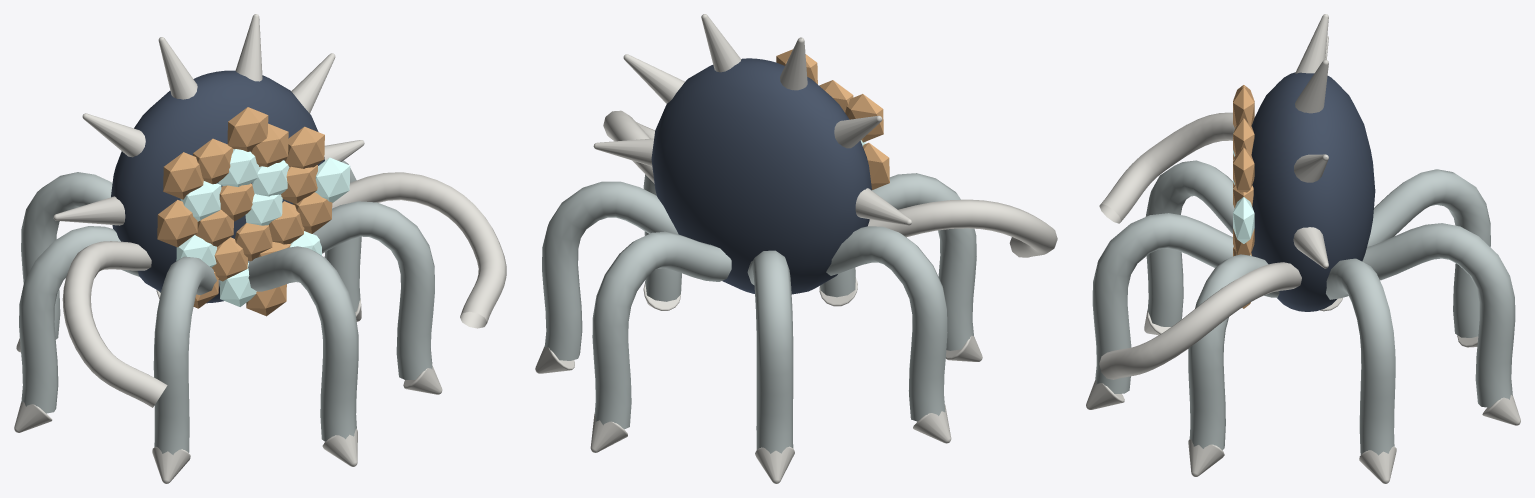
The model's file is bio_crown_stalker_07_near.glb.
3 views of the same model, side by side, from view 1: azimuth 30°, elevation 25°; view 2: azimuth 150°, elevation 25°; view 3: azimuth 270°, elevation 25° (orthographic). The views are drawn at different scales.
Visible parts, largest first — view 1: Compound lens facet.001, Faceted crown substrate, Crooked support.004, Crooked support.005, Compound lens facet, Crooked support.003, Crooked support.002, Scythe sensory limb.001, Scythe sensory limb, Crown radiating blade, Crooked support.001, Crooked support.006 (+4 smaller); view 2: Faceted crown substrate, Crooked support, Crooked support.006, Crooked support.002, Crooked support.001, Crown radiating blade, Crooked support.003, Scythe sensory limb, Compound lens facet.001, Scythe sensory limb.001, Crooked support.005, Contact spur.001 (+5 smaller); view 3: Faceted crown substrate, Crooked support, Crooked support.004, Crooked support.006, Crooked support.001, Crooked support.003, Scythe sensory limb.001, Crooked support.005, Scythe sensory limb, Crown radiating blade, Compound lens facet.001, Compound lens facet (+4 smaller).
Boxes of the visible parts, x1=… form: Compound lens facet.001: x1=157, y1=107, x2=332, y2=316; Faceted crown substrate: x1=111, y1=70, x2=324, y2=303; Crooked support.004: x1=248, y1=246, x2=358, y2=441; Crooked support.005: x1=313, y1=201, x2=434, y2=379; Compound lens facet: x1=176, y1=149, x2=350, y2=306; Crooked support.003: x1=153, y1=256, x2=220, y2=454; Crooked support.002: x1=19, y1=226, x2=139, y2=413; Scythe sensory limb.001: x1=332, y1=172, x2=506, y2=328; Scythe sensory limb: x1=62, y1=241, x2=167, y2=407; Crown radiating blade: x1=53, y1=14, x2=364, y2=225; Crooked support.001: x1=21, y1=172, x2=112, y2=339; Crooked support.006: x1=324, y1=160, x2=361, y2=311; Faceted crown substrate: x1=651, y1=58, x2=871, y2=294; Crooked support: x1=592, y1=231, x2=731, y2=429; Crooked support.006: x1=542, y1=181, x2=678, y2=360; Crooked support.002: x1=826, y1=226, x2=947, y2=421; Crooked support.001: x1=747, y1=250, x2=793, y2=453; Crown radiating blade: x1=593, y1=14, x2=911, y2=225; Crooked support.003: x1=872, y1=173, x2=976, y2=350; Scythe sensory limb: x1=868, y1=199, x2=1057, y2=257; Compound lens facet.001: x1=776, y1=49, x2=889, y2=189; Scythe sensory limb.001: x1=603, y1=110, x2=655, y2=183; Crooked support.005: x1=643, y1=174, x2=681, y2=301; Contact spur.001: x1=755, y1=446, x2=794, y2=483; Faceted crown substrate: x1=1251, y1=72, x2=1375, y2=311; Crooked support: x1=1362, y1=223, x2=1515, y2=407; Crooked support.004: x1=1092, y1=213, x2=1233, y2=393; Crooked support.006: x1=1326, y1=258, x2=1395, y2=455; Crooked support.001: x1=1367, y1=169, x2=1490, y2=337; Crooked support.003: x1=1145, y1=160, x2=1234, y2=326; Scythe sensory limb.001: x1=1099, y1=262, x2=1301, y2=379; Crooked support.005: x1=1188, y1=254, x2=1279, y2=450; Scythe sensory limb: x1=1099, y1=112, x2=1234, y2=223; Crown radiating blade: x1=1293, y1=14, x2=1328, y2=268; Compound lens facet.001: x1=1233, y1=85, x2=1254, y2=308; Compound lens facet: x1=1233, y1=126, x2=1254, y2=255.
Size of the model in its own units: 2.58 by 2.11 by 2.31.
